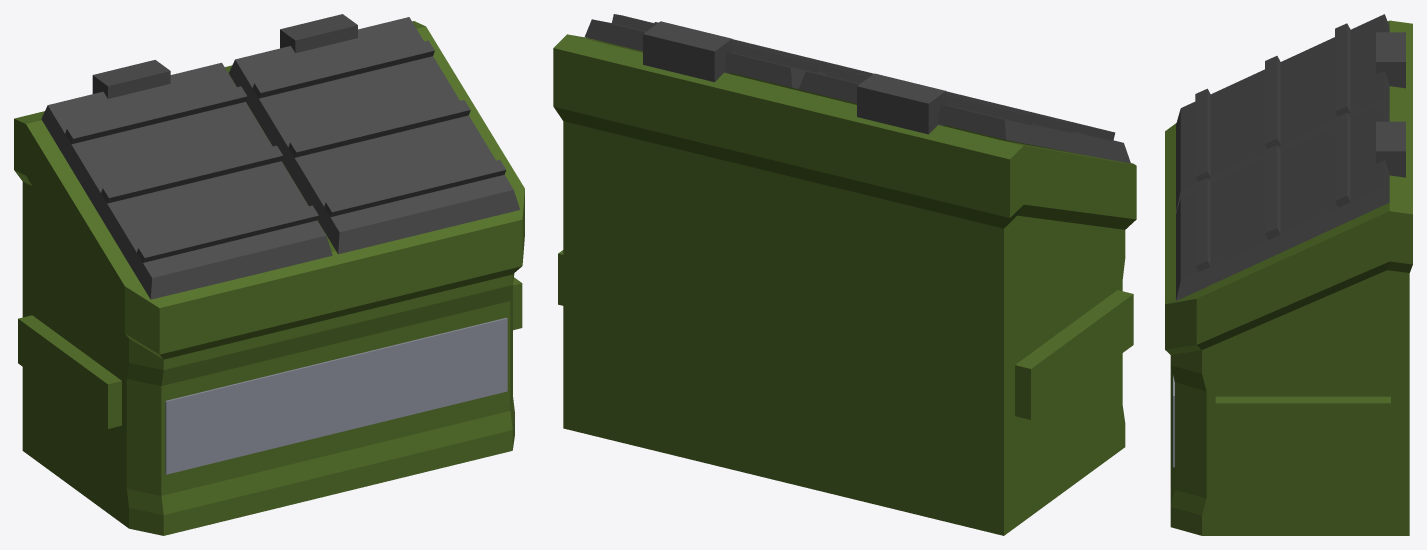
Rendered from quaternius-toon-shooter-game-trashcontainer.glb.
3 views of the same model, side by side, from view 1: azimuth 30°, elevation 25°; view 2: azimuth 150°, elevation 25°; view 3: azimuth 270°, elevation 25° (orthographic). The views are drawn at different scales.
Parts seen in each view (by area): view 1: TrashContainer; view 2: TrashContainer; view 3: TrashContainer.
Part boxes in pixels (x1,y1,x2,y2): TrashContainer: (14, 14, 524, 535); TrashContainer: (553, 14, 1136, 535); TrashContainer: (1165, 14, 1412, 535).
Bounding box in the file's own units: 2.44 × 2.03 × 1.3.
